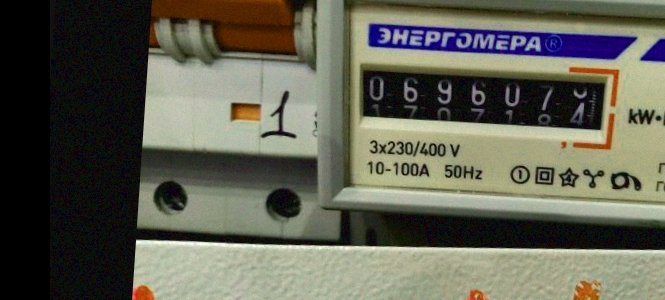0: (502, 77, 522, 108), (367, 72, 386, 101)
4: (568, 97, 587, 127)
6: (469, 76, 488, 106), (401, 73, 420, 102)
7: (536, 80, 557, 113)
9: (434, 76, 454, 105)
screen: (343, 47, 625, 149)
